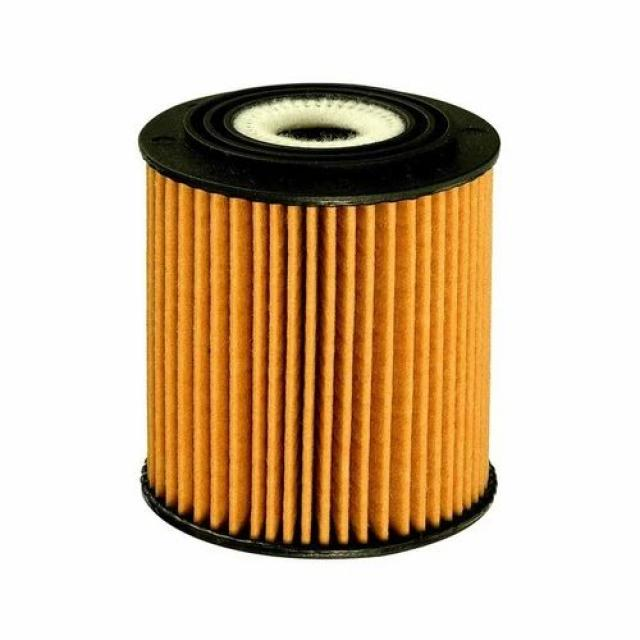oil_filter: (126, 70, 526, 568)
